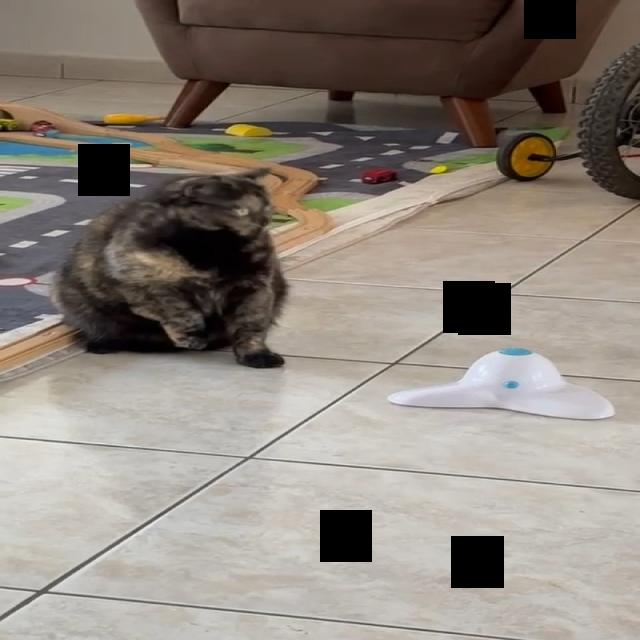authorized: (48, 166, 289, 368)
